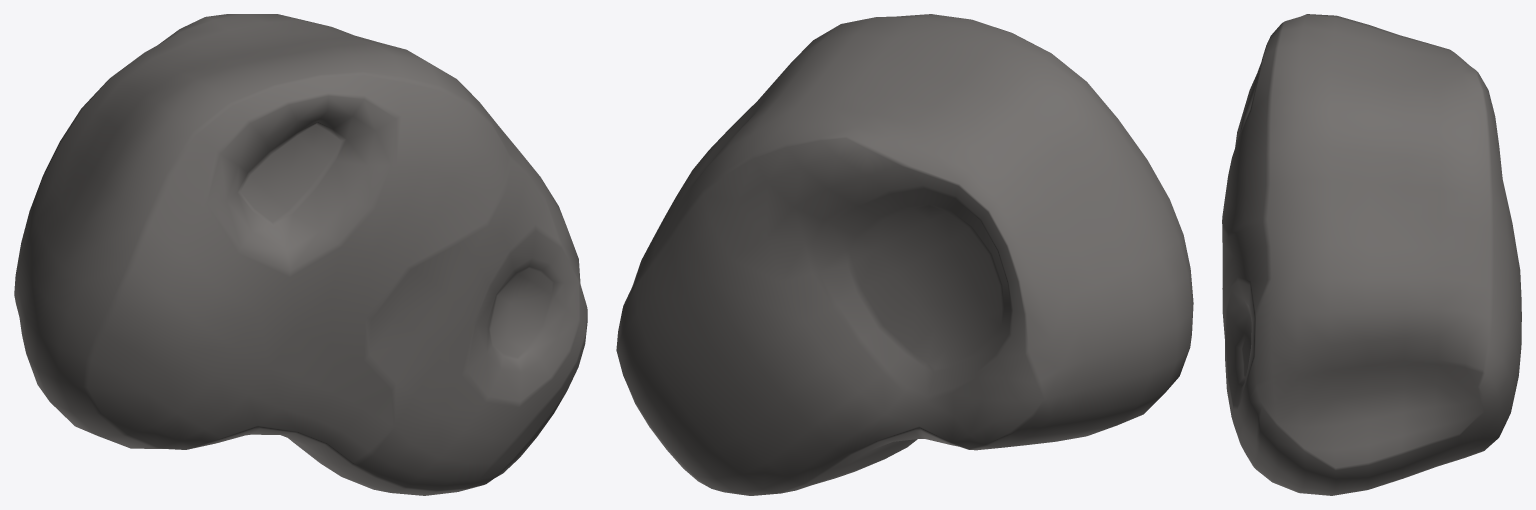
The model's file is _Meteorite_04.fbx.
3 renders of one model, left to right at view 1: azimuth 30°, elevation 25°; view 2: azimuth 150°, elevation 25°; view 3: azimuth 270°, elevation 25°, orthographic. The views are drawn at different scales.
Visible parts, largest first — view 1: Meteorite_04; view 2: Meteorite_04; view 3: Meteorite_04.
Part boxes in pixels (x1,y1,x2,y2): Meteorite_04: (14,14,587,495); Meteorite_04: (616,14,1193,495); Meteorite_04: (1222,14,1521,495).
Bounding box in the file's own units: 200 × 174 × 125.
Materials: 1 (1 with a texture image).
